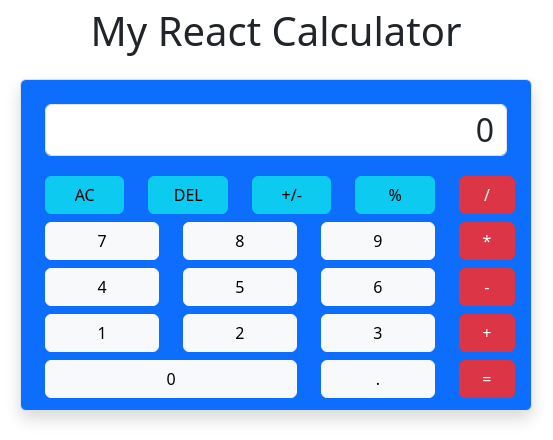
Test: Calculator App › should add two numbers
Note: Click on the number buttons to input 5 and 3
Click the button "5" at {"x": 240, "y": 287}, box [183,268,297,306]
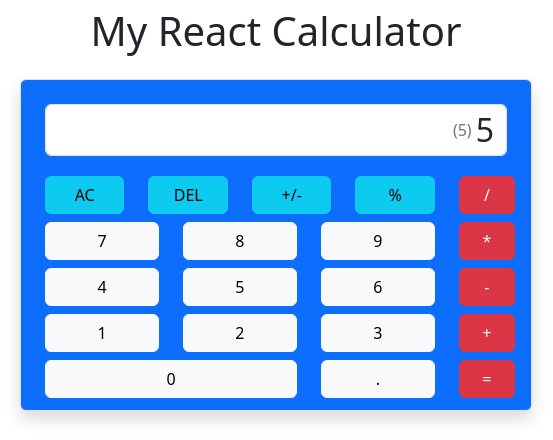
Click the button "+" at {"x": 487, "y": 333}, box [459,314,515,352]
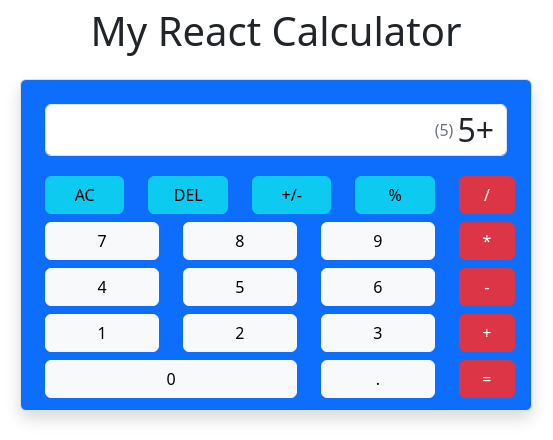
Click the button "3" at {"x": 378, "y": 333}, box [321,314,435,352]
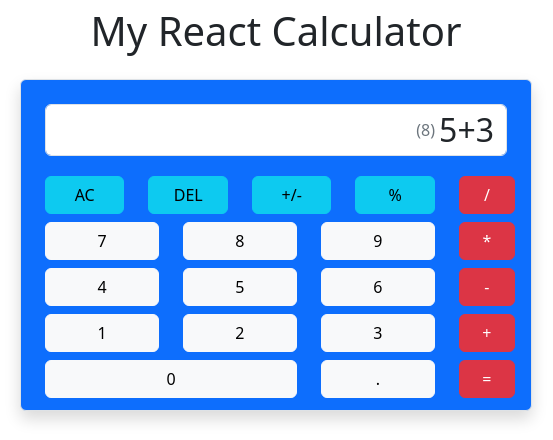
Click the button "=" at {"x": 487, "y": 379}, box [459,360,515,398]
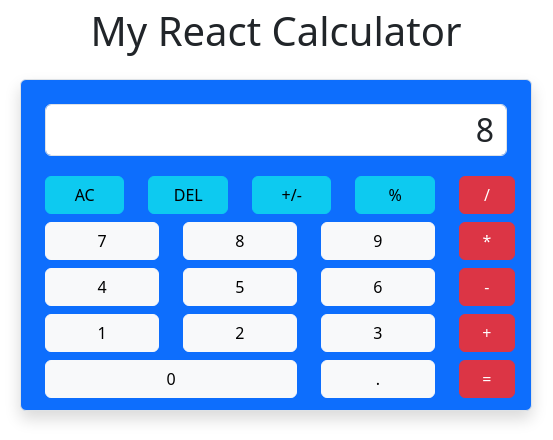
expect the text "8" is shown: met, box [476,111,494,149]
